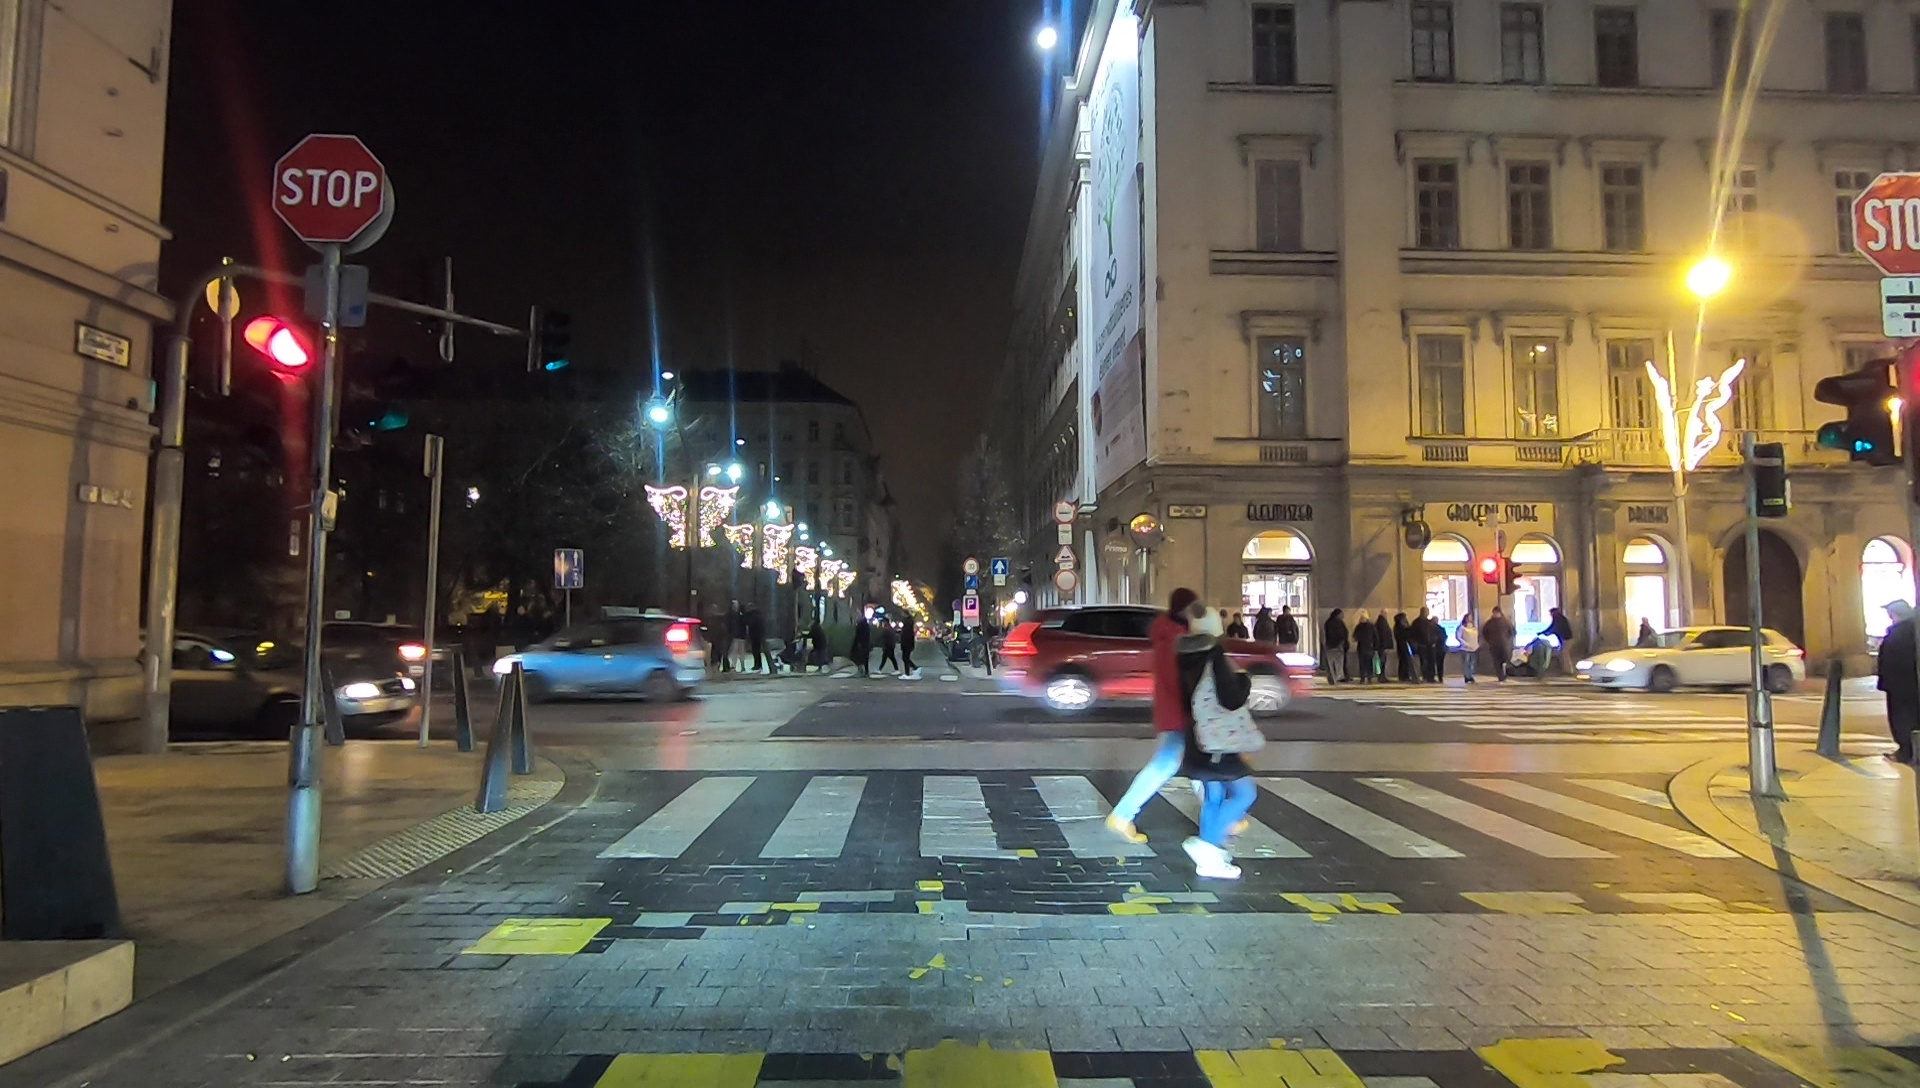person: (1119, 606, 1245, 843), (1180, 615, 1258, 880), (1876, 599, 1919, 758), (1484, 606, 1512, 674), (1417, 613, 1441, 680), (712, 611, 736, 674), (1549, 608, 1575, 667), (749, 608, 769, 682), (1325, 613, 1347, 682), (852, 619, 875, 678), (1456, 615, 1478, 676), (1358, 619, 1375, 684), (901, 613, 917, 674), (880, 619, 895, 676), (1380, 615, 1391, 682)
